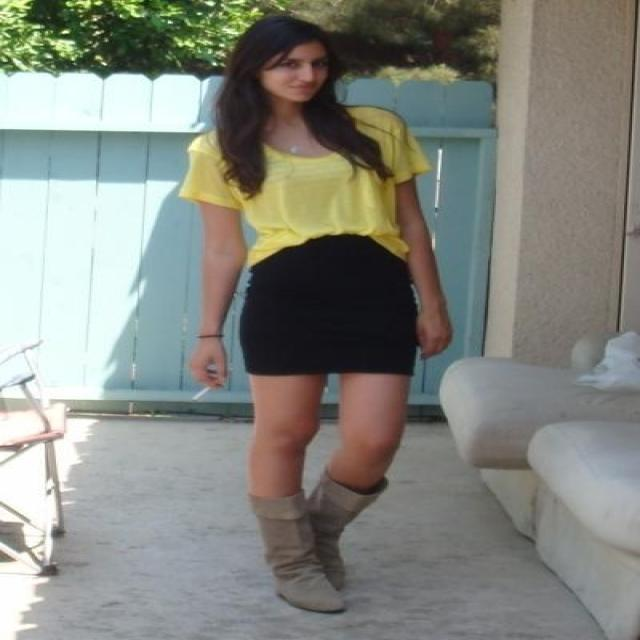shirt: (187, 106, 426, 264)
shoe: (248, 474, 387, 614)
skirt: (240, 234, 419, 383)
